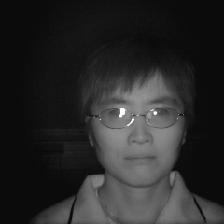normal: (75, 47, 196, 189)
